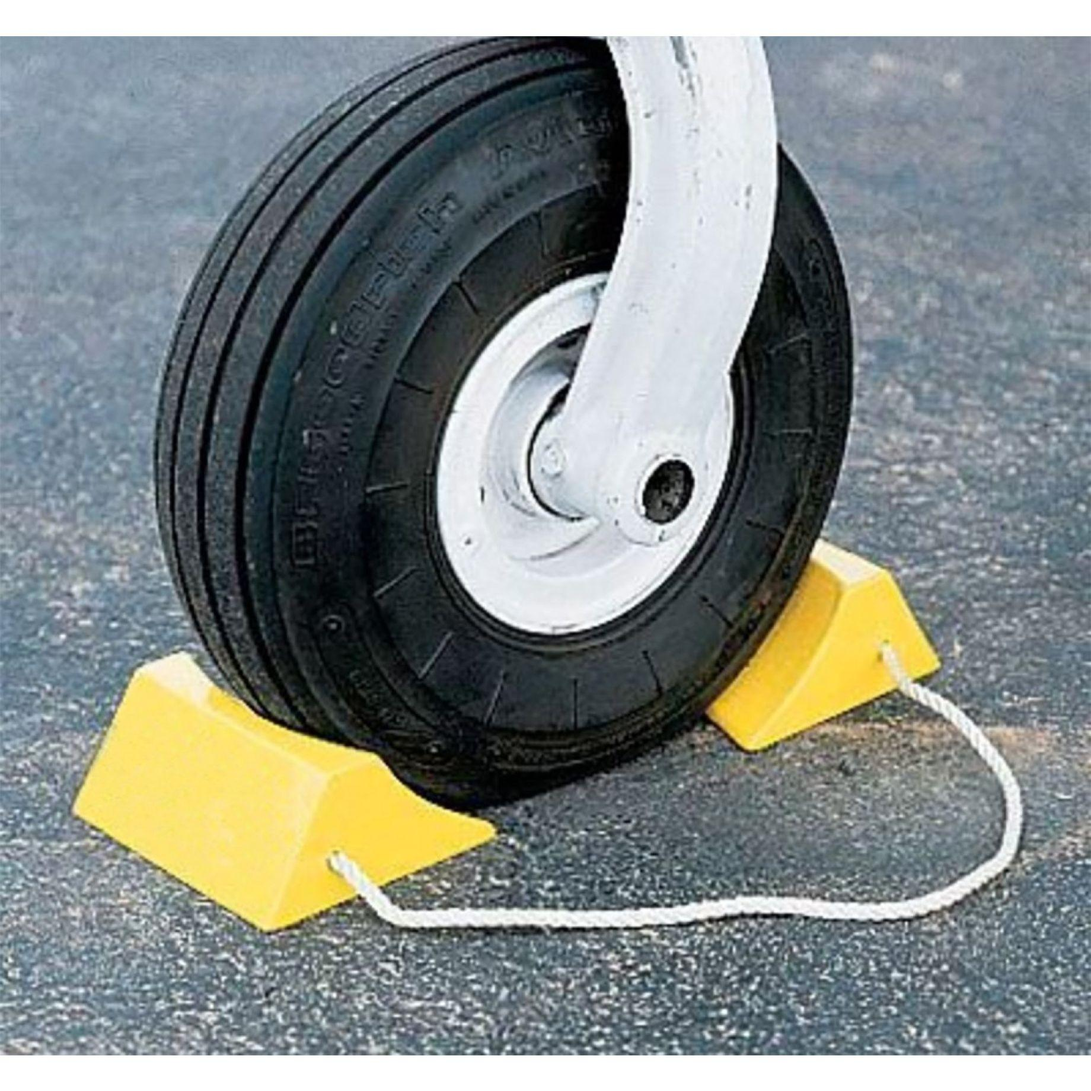chock: (69, 653, 495, 932), (631, 523, 946, 753)
wheel: (151, 37, 861, 817)
